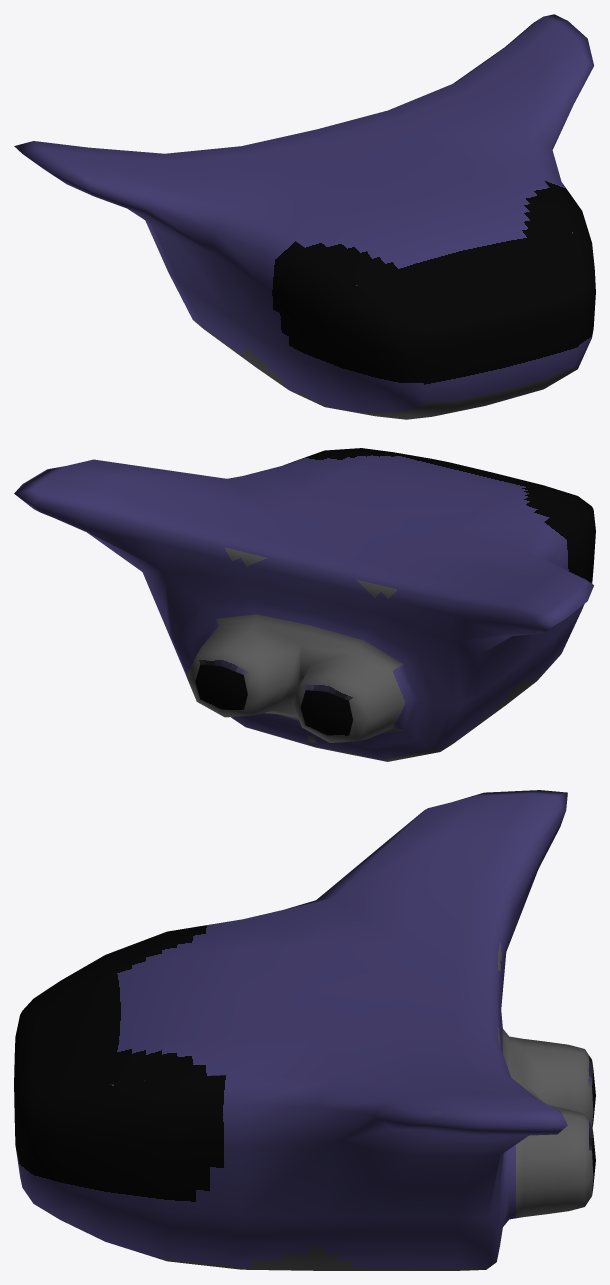
Rendered from ship.glb.
The picture shows the model from 3 angles, top to bottom: view 1: azimuth 30°, elevation 25°; view 2: azimuth 150°, elevation 25°; view 3: azimuth 270°, elevation 25°; orthographic projection. The views are drawn at different scales.
Parts seen in each view (by area): view 1: Cube; view 2: Cube; view 3: Cube.
Boxes of the visible parts, x1,y1,x2,y2 form: Cube: (14,14,595,419); Cube: (14,448,595,761); Cube: (14,790,595,1270).
Bounding box in the file's own units: 0.9125 × 0.3487 × 0.668.
Materials: 1 (1 with a texture image).
